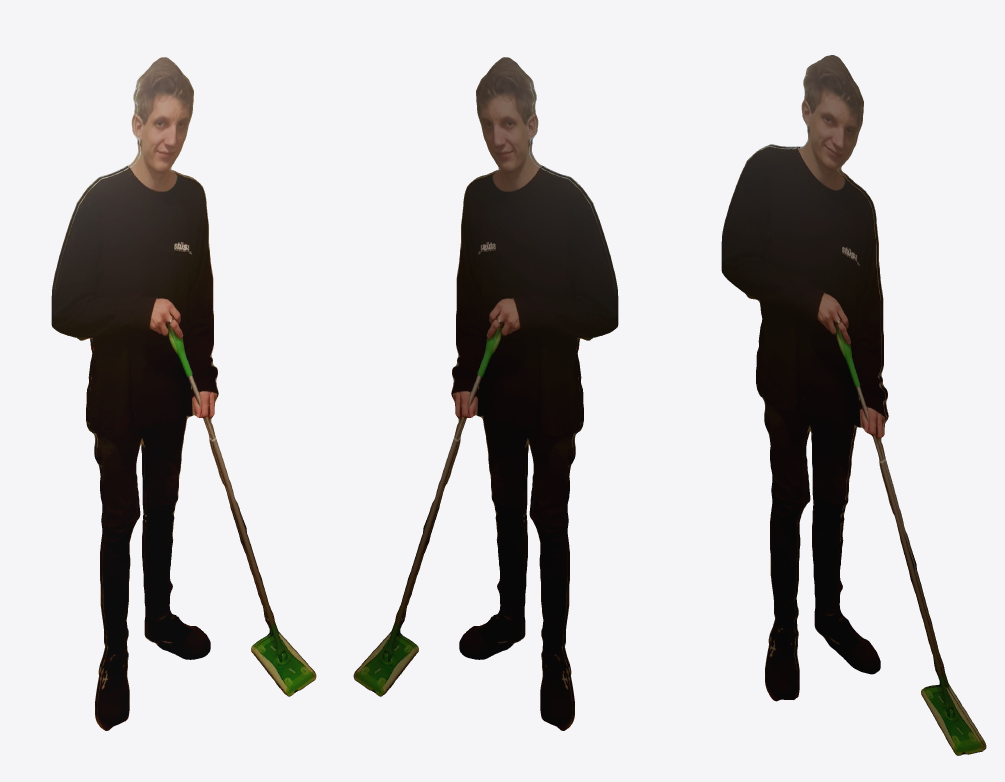
Rendered from FRANKE.fbx.
3 renders of one model, left to right at view 1: azimuth 30°, elevation 25°; view 2: azimuth 150°, elevation 25°; view 3: azimuth 330°, elevation 25°, orthographic.
Visible parts, largest first — view 1: Plane; view 2: Plane; view 3: Plane.
Part boxes in pixels (left/top/right/bottom): Plane: left=51, top=57, right=316, bottom=730; Plane: left=353, top=57, right=618, bottom=730; Plane: left=721, top=55, right=986, bottom=755.
Bounding box in the file's own units: 1498 × 3189 × 18.7.
1 material, 1 textured.
